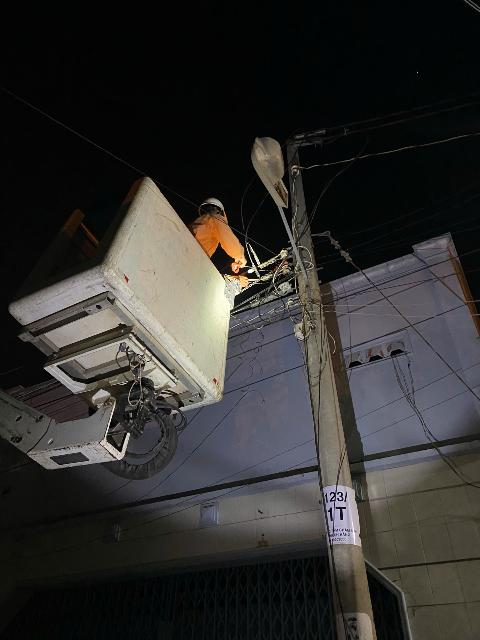gloves: (228, 271, 253, 290)
helmet: (194, 192, 238, 222)
